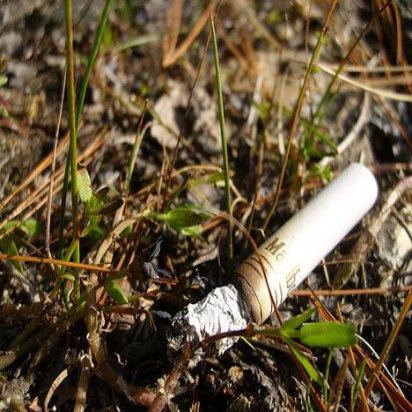cigarette: (180, 158, 381, 346)
